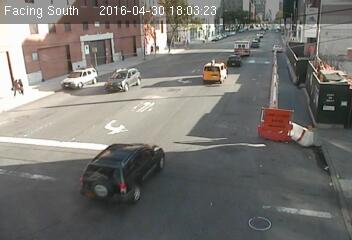neg: (263, 46, 280, 68), (220, 65, 234, 83), (127, 46, 136, 58)
pos: (10, 75, 26, 95), (7, 76, 22, 95)
